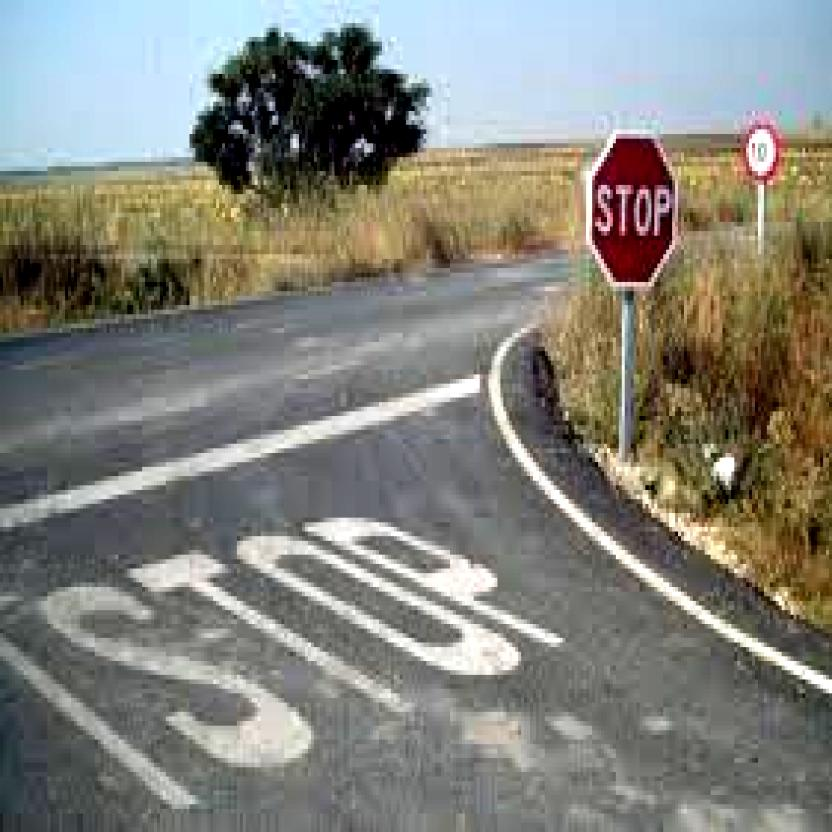Pole: (620, 296, 632, 464), (756, 183, 767, 256)
Sign: (589, 127, 678, 284)
